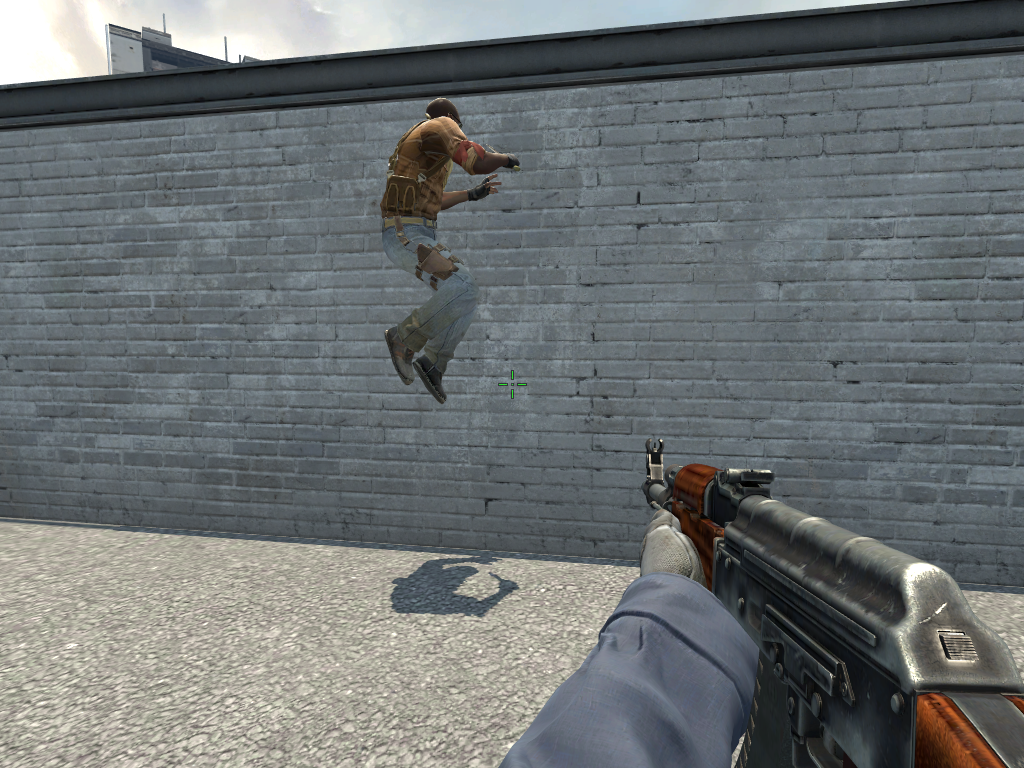tr head: (422, 93, 467, 137)
